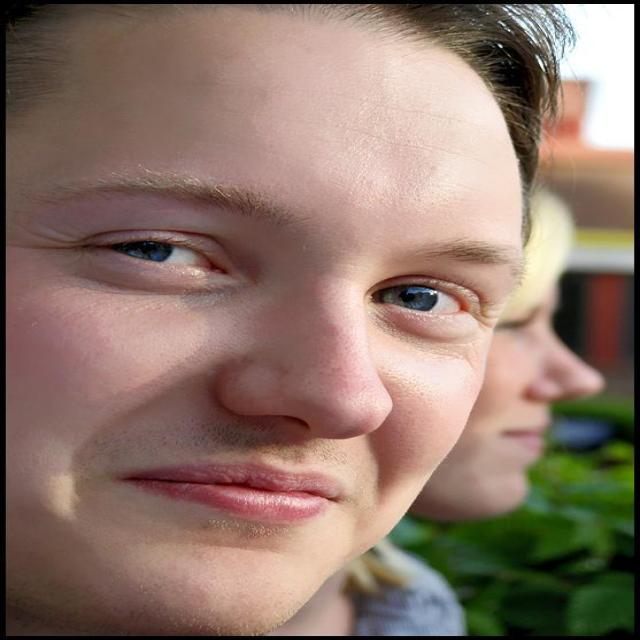no-glass: (87, 229, 494, 319)
